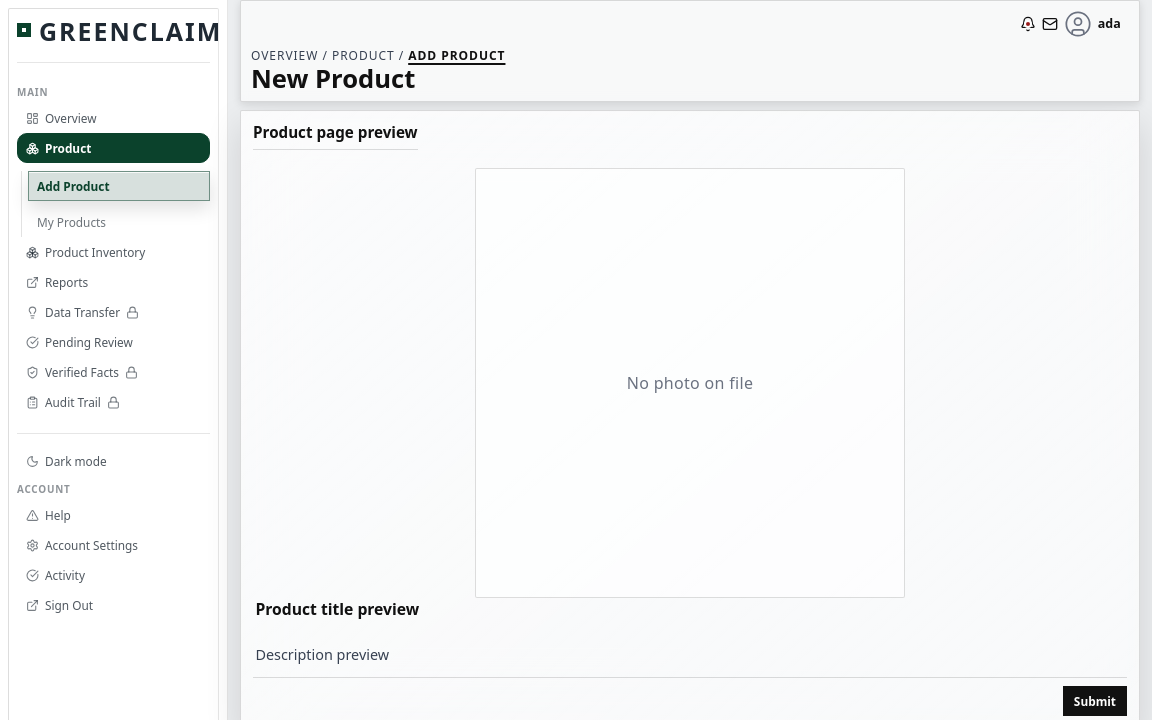
a Copywriter › Overview shows their own numbers and what was sent back, and never asks for the team's
Click the button "Overview".
click(114, 118)  # box [17,103,210,133]
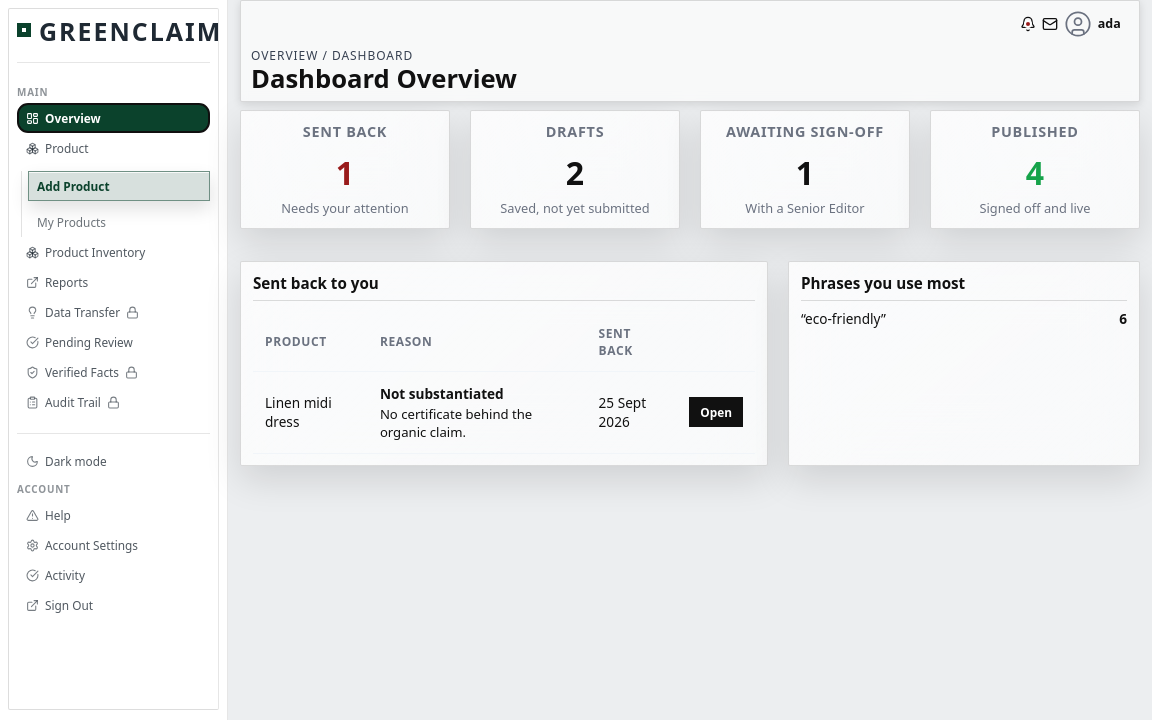
Check: the heading "Sent back to you" is shown, box [253,273,755,301]
Check: the text "Not substantiated" is shown, box [380,384,504,403]
Check: the text "No certificate behind the organic claim." is shown, box [380,405,532,441]
